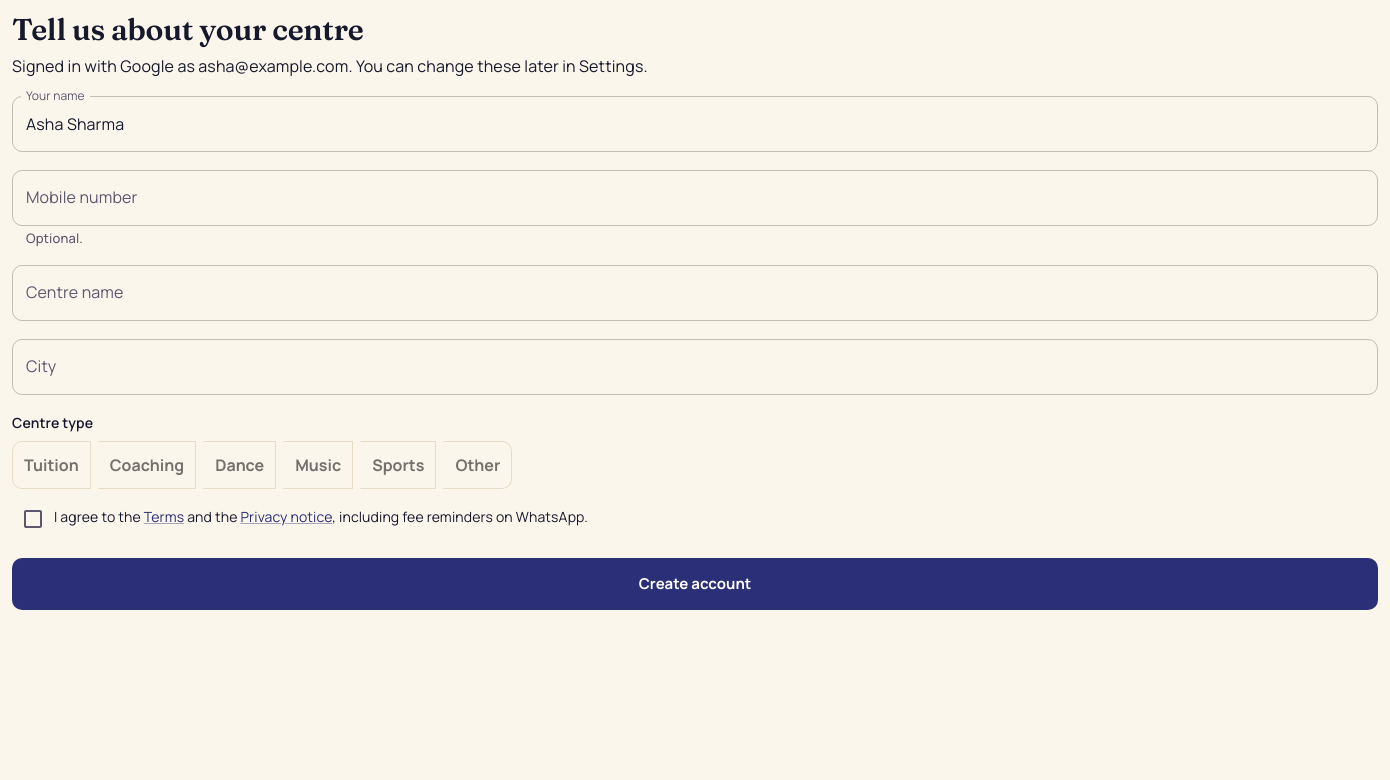
Test: SignUpForm › explains a Google account that already has a Chukta account
This screenshot has width=1390, height=780.
Type "98765 43210" into the field labelled "Mobile number" at x=695, y=198, box [12,170,1378,226]
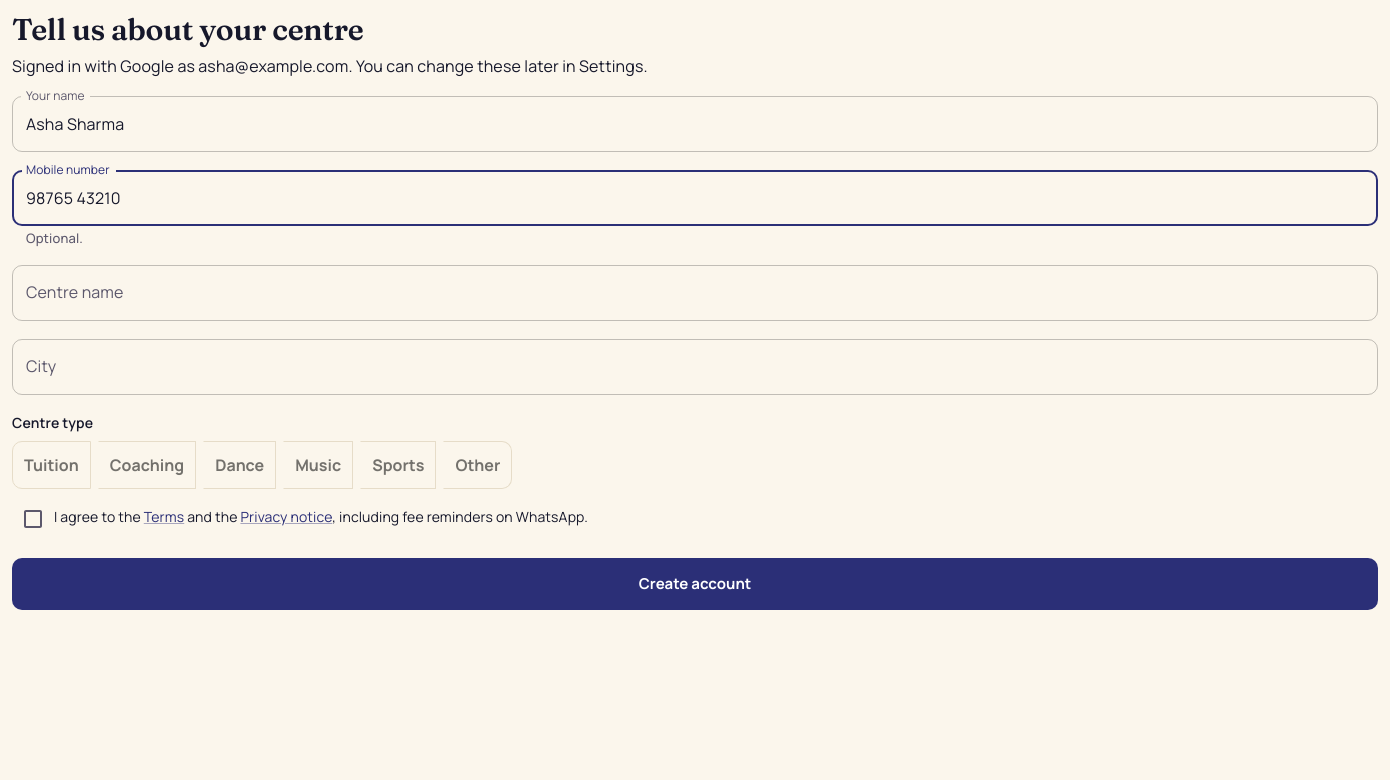
Type "Sunrise Classes" into the field labelled "Centre name" at x=695, y=293, box [12,265,1378,321]
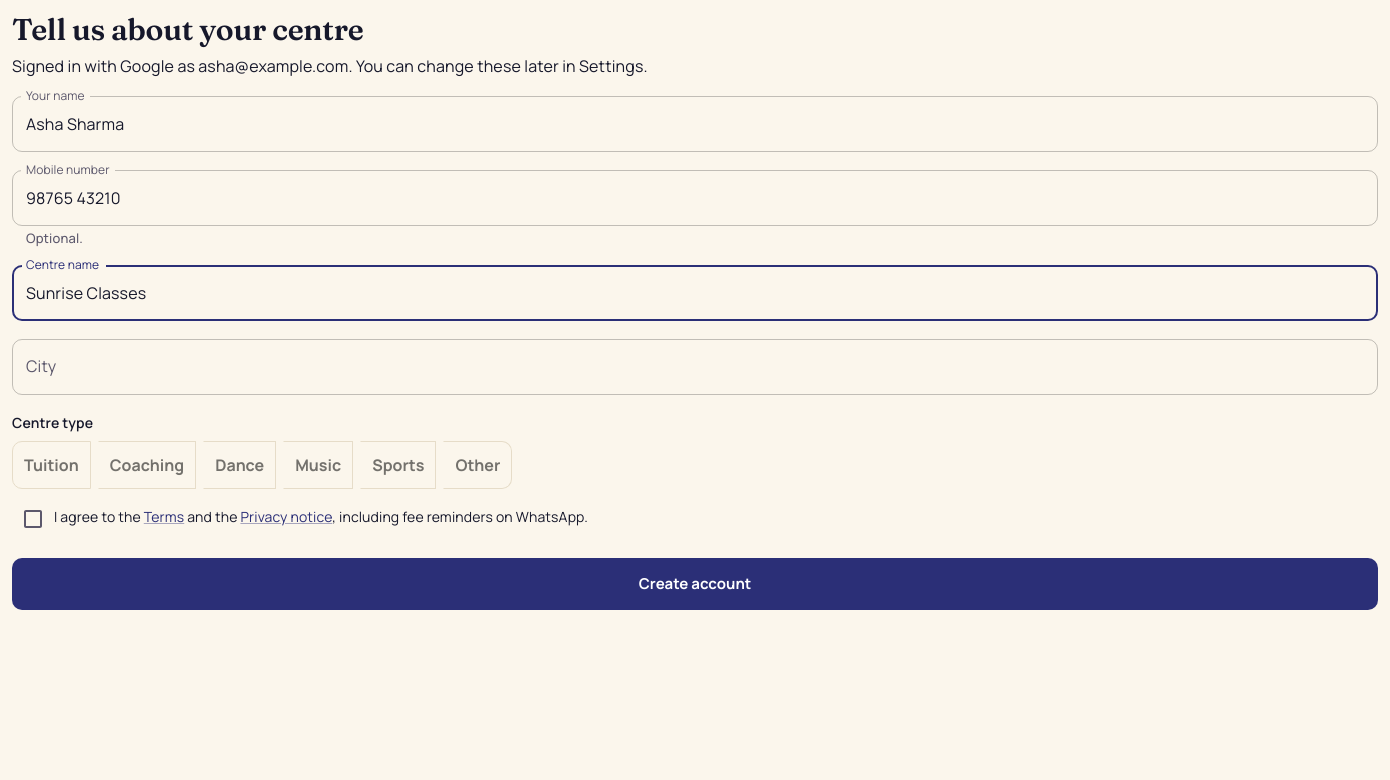
Type "Pune" into the field labelled "City" at x=695, y=367, box [12,339,1378,395]
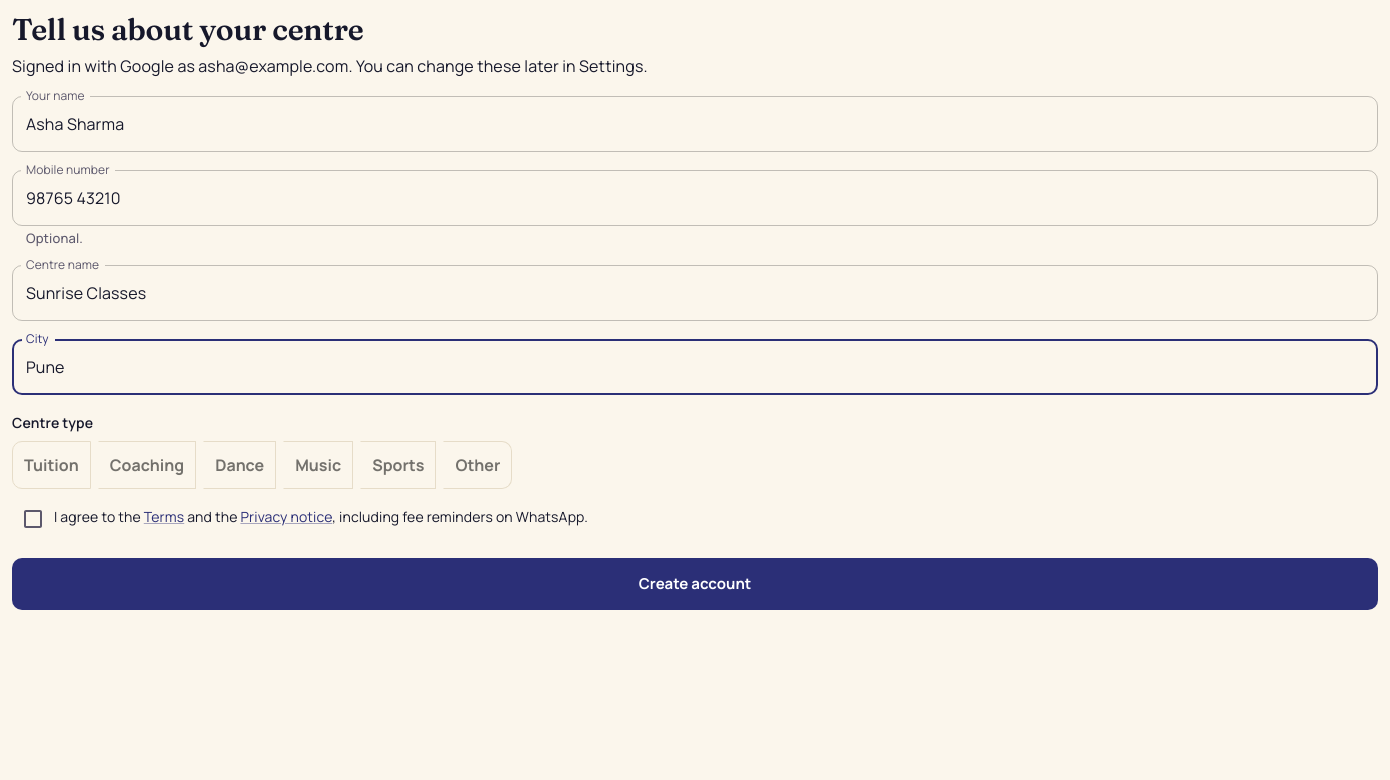
Click the button "Coaching" at x=147, y=465, box [98,441,196,489]
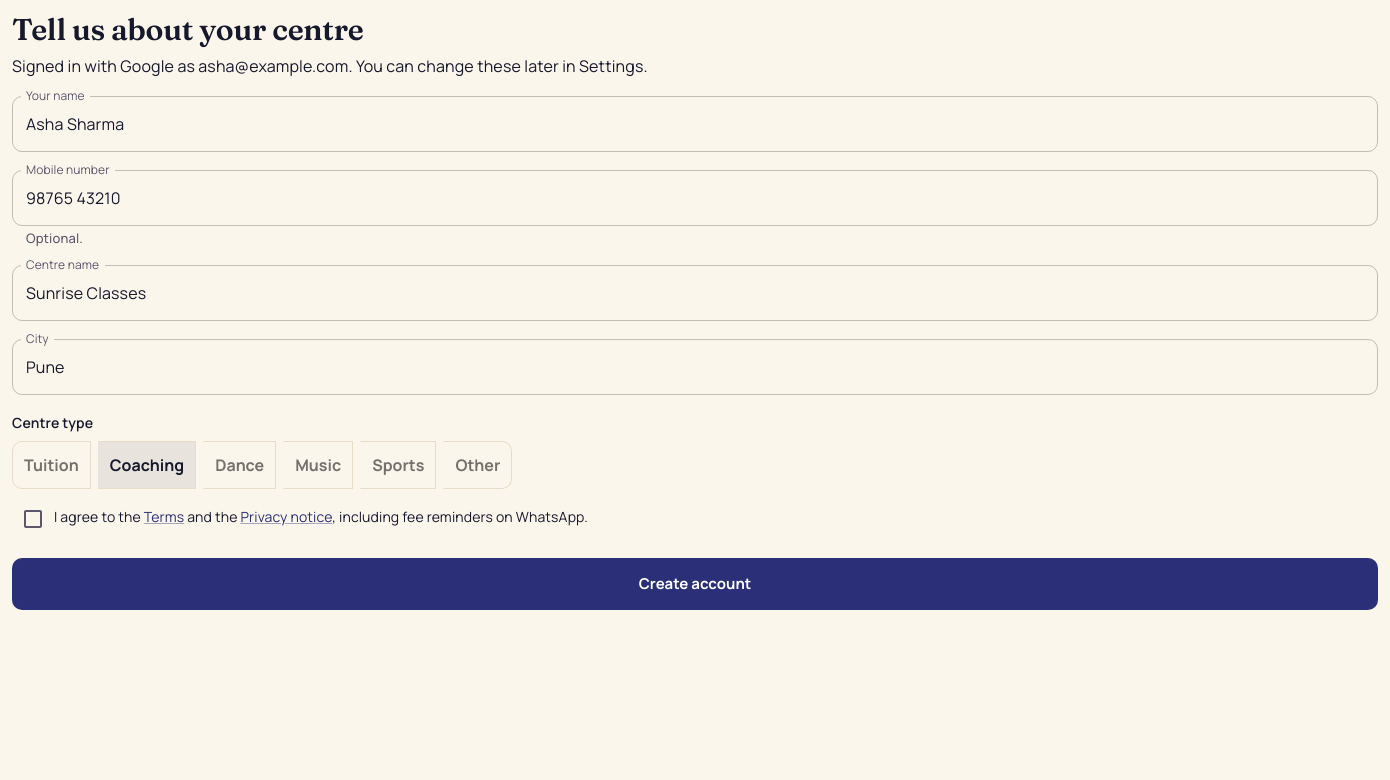
Click the checkbox labelled "I agree to the Terms" at x=304, y=519, box [21,507,588,531]
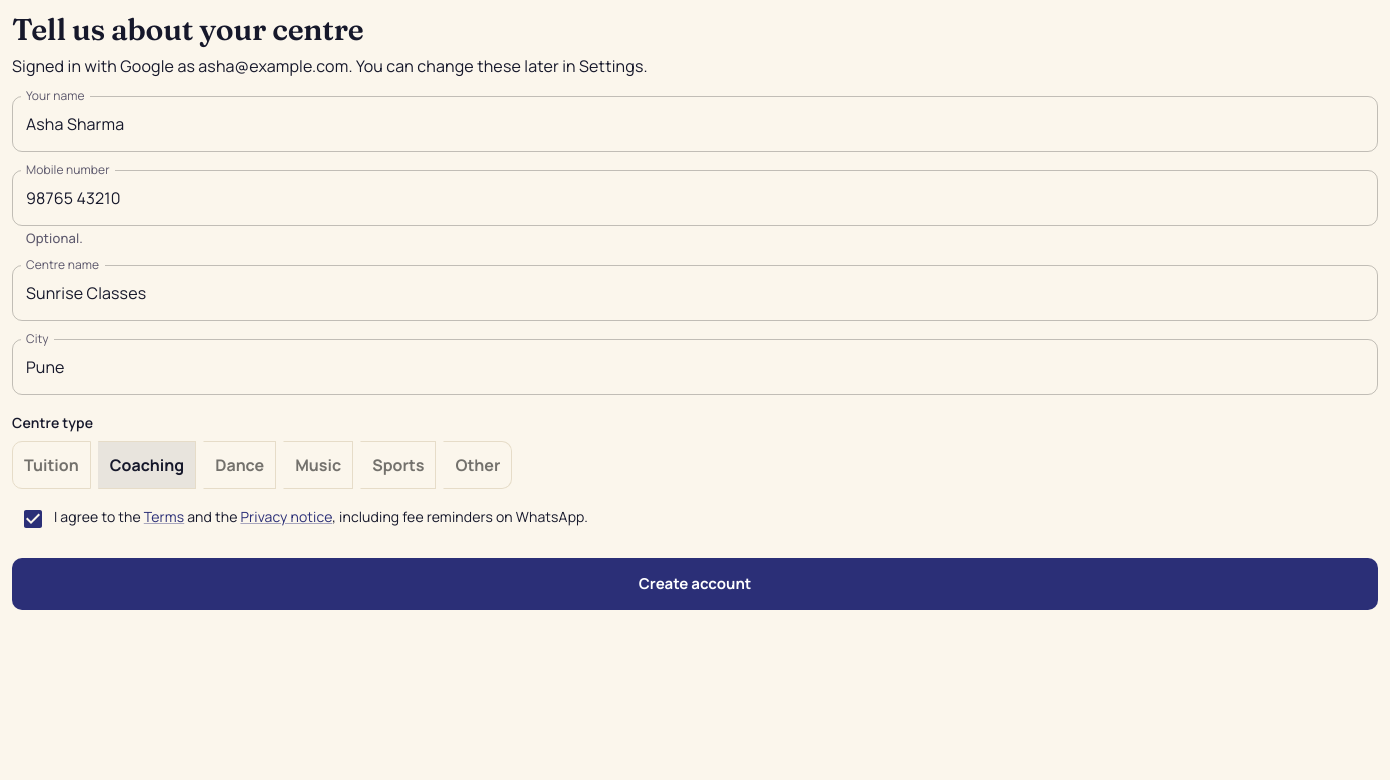
Click the button "Create account" at x=695, y=584, box [12,558,1378,610]
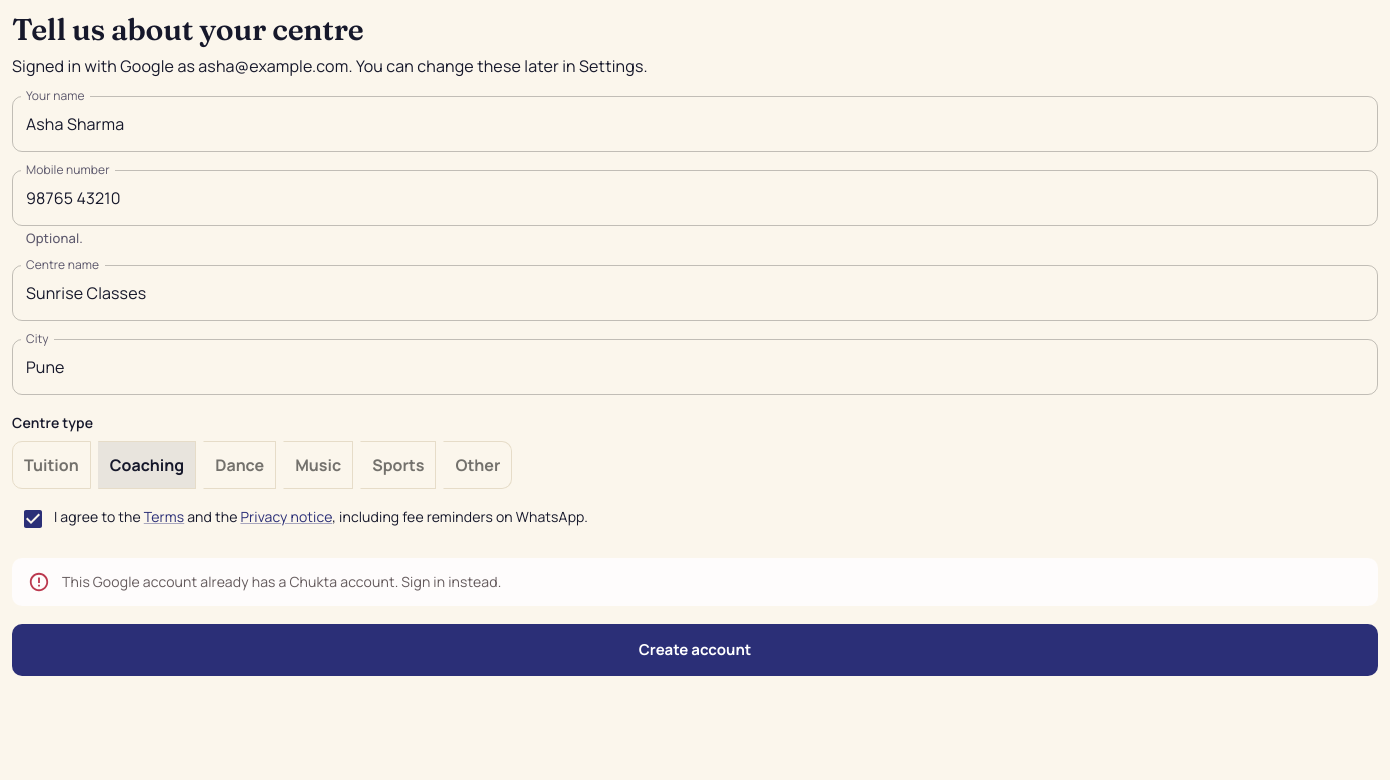
Expected: the message reads "This Google account already has a Chukta account. Sign in instead.", [62,572,501,591]
